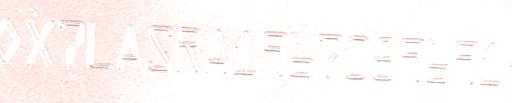letter: (24, 15, 56, 70), (56, 16, 86, 71), (144, 20, 174, 75), (286, 28, 318, 79), (84, 19, 114, 70), (173, 24, 203, 75), (260, 27, 288, 80), (114, 22, 144, 71), (342, 32, 372, 81), (450, 36, 480, 85), (316, 30, 344, 81), (478, 39, 506, 90), (396, 35, 426, 82), (202, 26, 230, 75), (230, 28, 258, 77), (370, 34, 398, 83), (424, 37, 452, 86)
